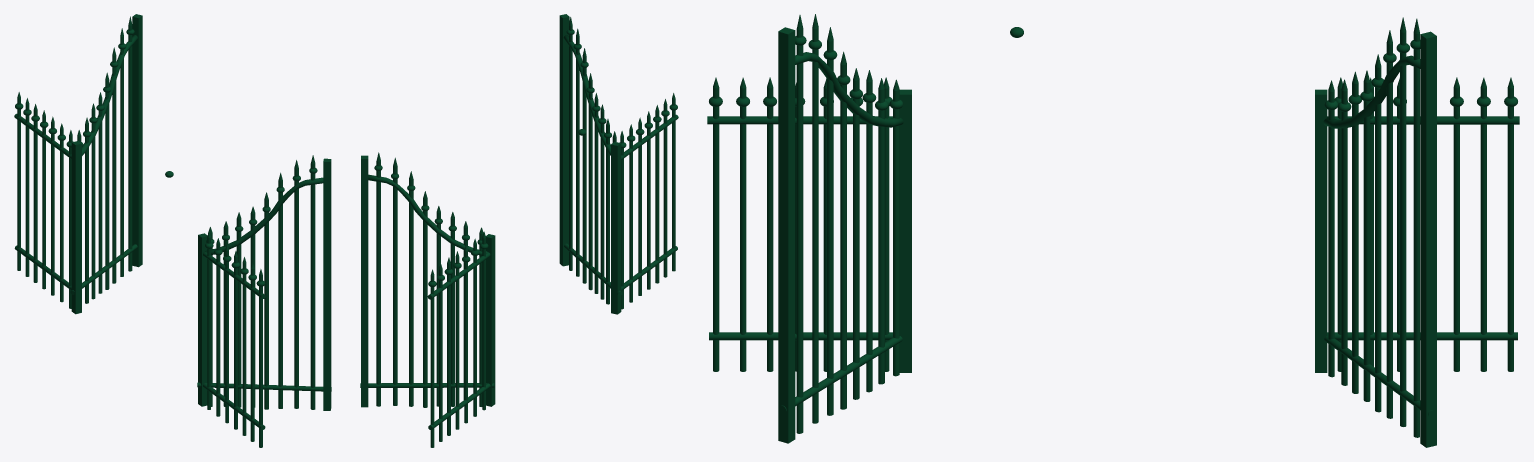
Rendered from hekpark.fbx.
3 renders of one model, left to right at view 1: azimuth 30°, elevation 25°; view 2: azimuth 150°, elevation 25°; view 3: azimuth 270°, elevation 25°, orthographic. The views are drawn at different scales.
Visible parts, largest first — view 1: Cube.003, Cube.001, Cube.002, Cube, Cylinder.022, Cylinder.035, Cylinder.020, Cylinder.021, Cylinder.036, Cylinder.025, Cylinder.032, Cylinder.037 (+28 smaller); view 2: Cube.001, Cube.003, Cube, Cube.002, Cylinder.035, Cylinder.037, Cylinder.036, Cylinder.021, Cylinder.032, Cylinder.025, Cylinder.022, Cylinder.020 (+28 smaller); view 3: Cube.001, Cube.003, Cube.002, Cube, Cylinder.022, Cylinder.035, Cylinder.020, Cylinder.037, Cylinder.021, Cylinder.036, Cylinder.034, Cylinder.025 (+27 smaller).
Part boxes in pixels (x1=…): Cube.003: x1=132, y1=14, x2=142, y2=267; Cube.001: x1=323, y1=158, x2=331, y2=410; Cube.002: x1=71, y1=141, x2=81, y2=314; Cube: x1=198, y1=233, x2=207, y2=406; Cylinder.022: x1=310, y1=155, x2=315, y2=409; Cylinder.035: x1=128, y1=16, x2=132, y2=271; Cylinder.020: x1=294, y1=160, x2=298, y2=408; Cylinder.021: x1=278, y1=172, x2=282, y2=408; Cylinder.036: x1=112, y1=47, x2=116, y2=283; Cylinder.025: x1=264, y1=192, x2=268, y2=409; Cylinder.032: x1=105, y1=72, x2=109, y2=289; Cylinder.037: x1=120, y1=28, x2=123, y2=276; Cube.001: x1=559, y1=14, x2=569, y2=266; Cube.003: x1=361, y1=155, x2=368, y2=407; Cube: x1=611, y1=142, x2=621, y2=314; Cube.002: x1=485, y1=234, x2=495, y2=406; Cylinder.035: x1=376, y1=152, x2=380, y2=406; Cylinder.037: x1=393, y1=157, x2=397, y2=405; Cylinder.036: x1=409, y1=171, x2=413, y2=406; Cylinder.021: x1=582, y1=48, x2=586, y2=283; Cylinder.032: x1=423, y1=191, x2=427, y2=407; Cylinder.025: x1=588, y1=73, x2=592, y2=290; Cylinder.022: x1=569, y1=17, x2=572, y2=270; Cylinder.020: x1=576, y1=28, x2=579, y2=276; Cube.001: x1=778, y1=27, x2=795, y2=443; Cube.003: x1=1420, y1=31, x2=1436, y2=447; Cube.002: x1=1315, y1=89, x2=1327, y2=372; Cube: x1=899, y1=89, x2=911, y2=372; Cylinder.022: x1=796, y1=15, x2=803, y2=433; Cylinder.035: x1=1413, y1=18, x2=1419, y2=437; Cylinder.020: x1=812, y1=14, x2=818, y2=423; Cylinder.037: x1=1400, y1=17, x2=1406, y2=426; Cylinder.021: x1=827, y1=27, x2=833, y2=415; Cylinder.036: x1=1386, y1=30, x2=1392, y2=418; Cylinder.034: x1=1363, y1=70, x2=1370, y2=401; Cylinder.025: x1=840, y1=51, x2=846, y2=409.
Bounding box in the file's own units: 593 × 1396 × 2447.
